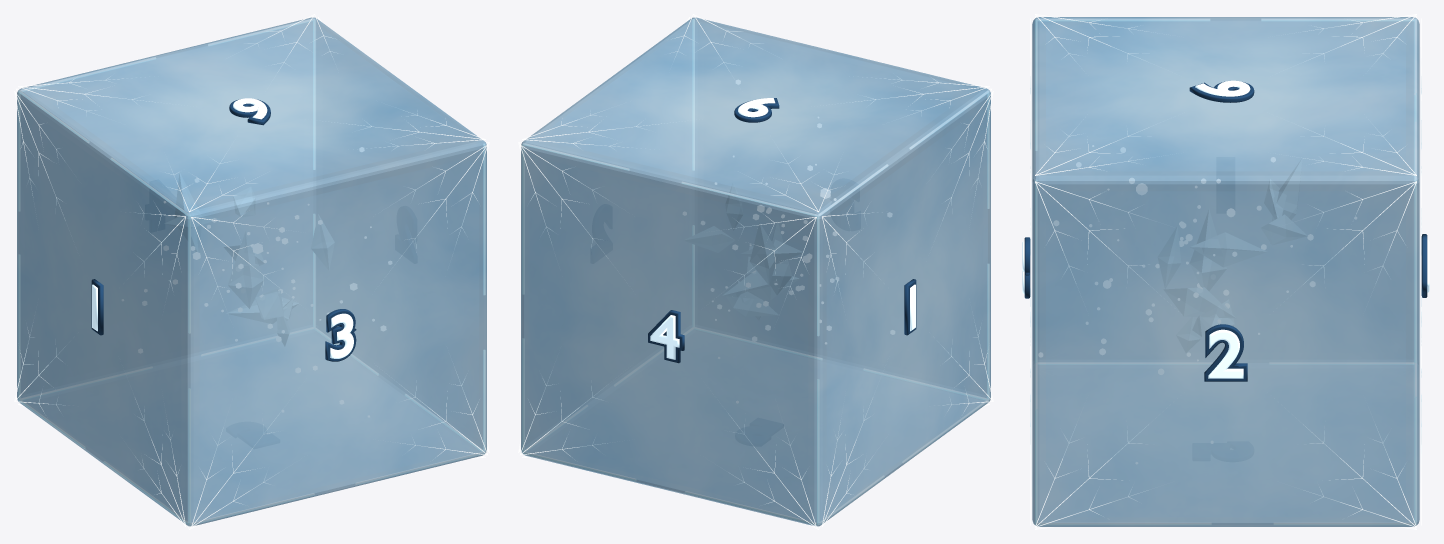
File: D6_六面骰_月白冰晶_baked.glb
The picture shows the model from 3 angles, left to right: view 1: azimuth 30°, elevation 25°; view 2: azimuth 150°, elevation 25°; view 3: azimuth 270°, elevation 25°; orthographic projection. The views are drawn at different scales.
Parts seen in each view (by area): view 1: D6_Body_6_Faces, D6_Continuous_Frost_Gradient_v3, D6_Moonwhite_Broken_Ice_Seam, D6_Floating_Ice_Shards, D6_Every_Face_Vertex_Frost_v6, D6_Floating_Frost_Motes, D6_Face_03_3_Dark_Ice_Back_v7, D6_Face_03_3; view 2: D6_Body_6_Faces, D6_Continuous_Frost_Gradient_v3, D6_Moonwhite_Broken_Ice_Seam, D6_Floating_Ice_Shards, D6_Every_Face_Vertex_Frost_v6, D6_Floating_Frost_Motes, D6_Face_04_4, D6_Face_04_4_Dark_Ice_Back_v7; view 3: D6_Body_6_Faces, D6_Continuous_Frost_Gradient_v3, D6_Floating_Ice_Shards, D6_Moonwhite_Broken_Ice_Seam, D6_Every_Face_Vertex_Frost_v6, D6_Face_02_2_Dark_Ice_Back_v7, D6_Floating_Frost_Motes, D6_Face_02_2, D6_Face_06_6, D6_Face_06_6_Dark_Ice_Back_v7.
Boxes of the visible parts, x1,y1,x2,y2 form: D6_Body_6_Faces: (17,17,486,526); D6_Continuous_Frost_Gradient_v3: (27,48,475,470); D6_Moonwhite_Broken_Ice_Seam: (18,18,485,525); D6_Floating_Ice_Shards: (165,173,334,345); D6_Every_Face_Vertex_Frost_v6: (14,14,489,529); D6_Floating_Frost_Motes: (122,147,391,416); D6_Face_03_3_Dark_Ice_Back_v7: (325,309,356,361); D6_Face_03_3: (330,313,353,358); D6_Body_6_Faces: (521,17,990,526); D6_Continuous_Frost_Gradient_v3: (539,46,983,477); D6_Moonwhite_Broken_Ice_Seam: (522,19,989,525); D6_Floating_Ice_Shards: (684,183,802,319); D6_Every_Face_Vertex_Frost_v6: (518,14,993,529); D6_Floating_Frost_Motes: (683,80,894,402); D6_Face_04_4: (650,315,679,359); D6_Face_04_4_Dark_Ice_Back_v7: (648,310,684,363); D6_Body_6_Faces: (1032,17,1419,526); D6_Continuous_Frost_Gradient_v3: (1061,26,1405,500); D6_Floating_Ice_Shards: (1158,159,1306,352); D6_Moonwhite_Broken_Ice_Seam: (1035,19,1416,524); D6_Every_Face_Vertex_Frost_v6: (1030,14,1421,529); D6_Face_02_2_Dark_Ice_Back_v7: (1204,324,1247,381); D6_Floating_Frost_Motes: (1038,145,1356,463); D6_Face_02_2: (1208,329,1243,378); D6_Face_06_6: (1195,80,1250,96); D6_Face_06_6_Dark_Ice_Back_v7: (1189,81,1254,102).
Bounding box in the file's own units: 2.43 × 2.43 × 2.43.
Materials: 11 (2 with a texture image).
